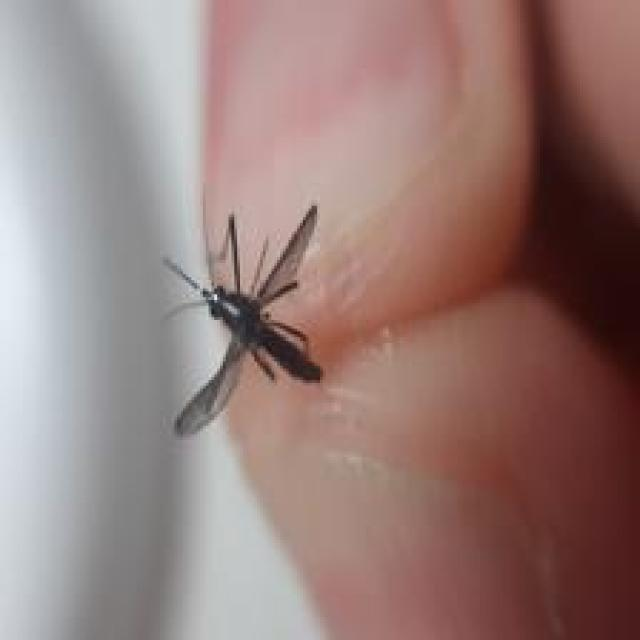Aedes albopictus: (160, 202, 326, 438)
